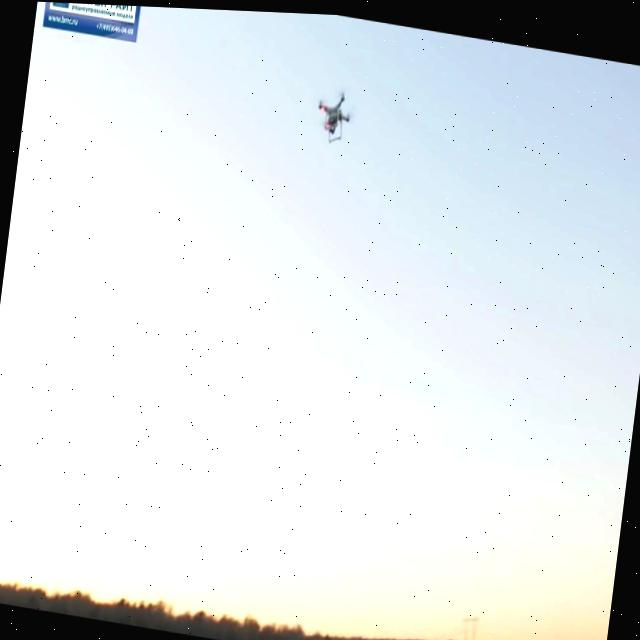drone: (312, 78, 356, 143)
